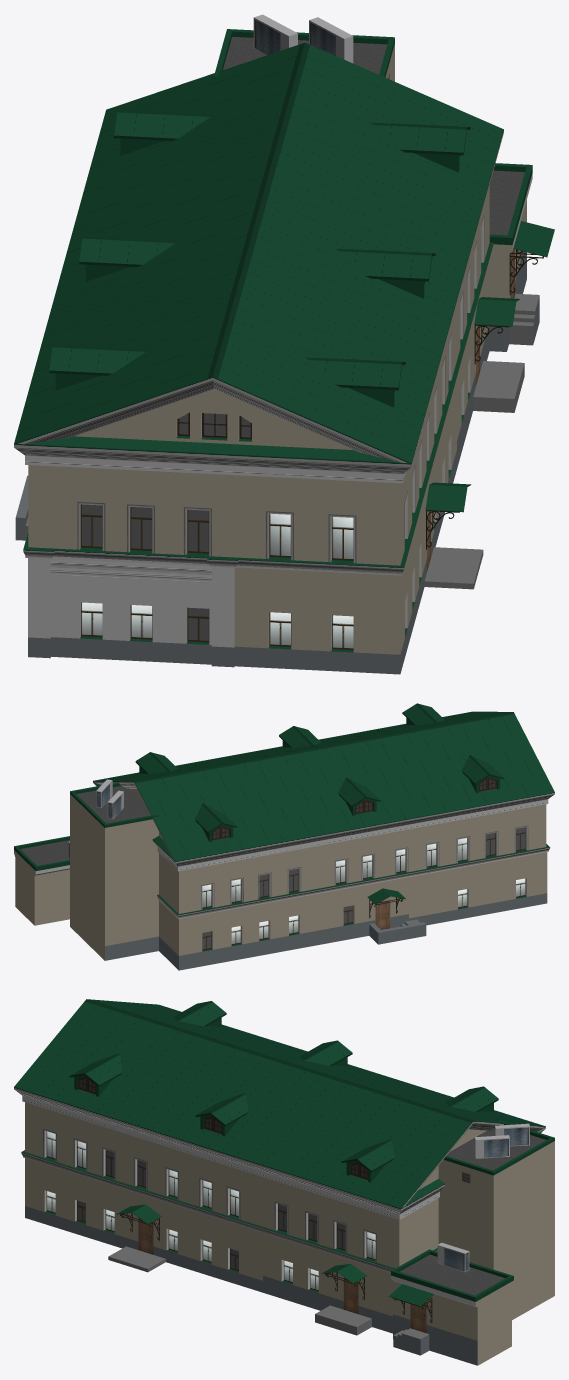
The picture shows the model from 3 angles, top to bottom: view 1: azimuth 30°, elevation 25°; view 2: azimuth 150°, elevation 25°; view 3: azimuth 270°, elevation 25°; orthographic projection. The views are drawn at different scales.
Visible parts, largest first — view 1: 01020-50@110652; view 2: 01020-50@110652; view 3: 01020-50@110652.
Part boxes in pixels (bbox=[...]): 01020-50@110652: bbox=[14, 14, 554, 674]; 01020-50@110652: bbox=[14, 703, 554, 970]; 01020-50@110652: bbox=[14, 999, 554, 1365].
Size of the model in its own units: 31.6 by 11.38 by 31.31.
1 material, 1 textured.
